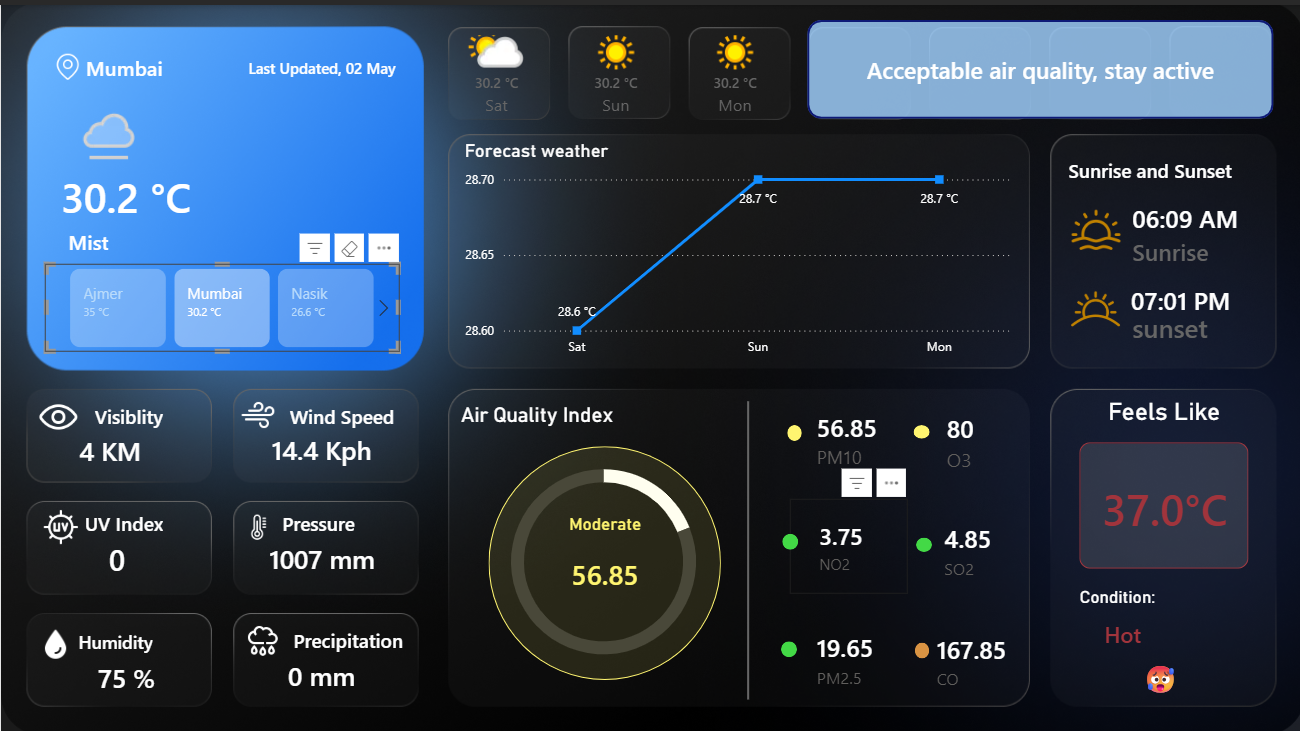

What the dashboard file says about the page in this screenshot:
{"tool":"powerbi","page":{"name":"Page 1","canvas":[1280,720],"ordinal":0},"visuals":[{"type":"donutChart","fields":{"Y":["Sum(current.current.air_quality.pm10)","_Measures.Left_Value_PM10"]},"box":[438.6,428.6,307.1,237.1],"z":0},{"type":"shape","box":[478.5,433.1,228.2,229.4],"z":1000},{"type":"shape","box":[66.3,208.6,360.7,47.9],"z":2000},{"type":"shape","box":[83.3,38.9,90,43.3],"z":3000},{"type":"image","box":[53.3,45.6,25.6,30],"z":4000},{"type":"image","box":[34.3,381.4,44.3,45.7],"z":5000},{"type":"shape","box":[92.5,380,93.8,47.5],"z":6000},{"type":"image","box":[230,385.7,45.7,34.3],"z":7000},{"type":"shape","box":[283.8,380,107.5,47.5],"z":8000},{"type":"image","box":[34.3,494.3,48.6,35.7],"z":9000},{"type":"shape","box":[82.5,486.2,103.8,46.2],"z":10000},{"type":"shape","box":[276.2,477.5,101.2,62.5],"z":11000},{"type":"image","box":[240,500,25,26.2],"z":12000},{"type":"image","box":[34.3,612.9,38.6,30],"z":13000},{"type":"shape","box":[76.2,601.2,93.8,47.5],"z":14000},{"type":"shape","box":[287.5,593.8,116.2,60],"z":15000},{"type":"image","box":[227.5,606.2,60,36.2],"z":16000},{"type":"cardVisual","fields":{"Data":["_Measures.Visibility"]},"box":[47.9,402.5,150.9,67.5],"z":17000},{"type":"cardVisual","fields":{"Data":["_Measures.Wind_Speed"]},"box":[236.7,395,166.7,80],"z":18000},{"type":"cardVisual","fields":{"Data":["_Measures.Pressure"]},"box":[234.4,506.8,169.3,72.4],"z":19000},{"type":"cardVisual","fields":{"Data":["Sum(current.current.uv)"]},"box":[47.9,506.8,132.5,72.4],"z":20000},{"type":"cardVisual","fields":{"Data":["_Measures.Humidity"]},"box":[66.2,623.8,132.5,72.5],"z":21000},{"type":"cardVisual","fields":{"Data":["_Measures.Precipitation"]},"box":[252.8,620.9,132.5,72.4],"z":22000},{"type":"advancedSlicerVisual","fields":{"Values":["forecast.Day_name"]},"box":[426.7,23.3,355,103.3],"z":23000},{"type":"shape","box":[1047.5,138.8,188.8,47.5],"z":24000},{"type":"shape","box":[1110,176.2,126.2,65],"z":25000},{"type":"shape","box":[1110,220,146.2,42.5],"z":26000},{"type":"shape","box":[1108.8,266.2,128.8,48.8],"z":27000},{"type":"shape","box":[1110,291.2,146.2,51.2],"z":28000},{"type":"image","box":[1040,196.2,68.8,48.8],"z":29000},{"type":"image","box":[1038.8,266.2,70,63.8],"z":30000},{"type":"shape","title":"Air Quality Index","box":[452,390.3,188.2,47.8],"z":31000},{"type":"cardVisual","fields":{"Data":["Sum(current.current.air_quality.pm10)"]},"box":[771.8,379.1,139.9,94.5],"z":32000},{"type":"cardVisual","fields":{"Data":["Sum(current.current.air_quality.co)"]},"box":[890,603.1,140.4,81.8],"z":33000},{"type":"cardVisual","fields":{"Data":["Sum(current.current.air_quality.no2)"]},"box":[774.4,484.4,115.7,94.1],"z":34000},{"type":"cardVisual","fields":{"Data":["Sum(current.current.air_quality.o3)"]},"box":[899.3,381,120.3,94.1],"z":35000},{"type":"cardVisual","fields":{"Data":["Sum(current.current.air_quality.pm2_5)"]},"box":[771.8,595.1,126.4,94.5],"z":36000},{"type":"cardVisual","fields":{"Data":["Sum(current.current.air_quality.so2)"]},"box":[896.9,488.3,122.7,94.5],"z":37000},{"type":"shape","box":[771.4,412.9,14.3,15.7],"z":38000},{"type":"advancedSlicerVisual","fields":{"Values":["Locations.location.name"]},"box":[42.9,254,348.5,87.1],"z":39000},{"type":"shape","box":[53.3,157.8,140,57.8],"z":40000},{"type":"shape","box":[243.3,47.8,195.6,27.8],"z":41000},{"type":"cardVisual","fields":{"Data":["Min(current.current.condition.icon)"]},"box":[45.6,0,121.1,176.7],"z":42000},{"type":"lineChart","title":"Forecast weather ","fields":{"Y":["Avg(forecast.forecast.forecastday.day.avgtemp_c)"],"Category":["forecast.Day_name"]},"box":[450,132.9,547.1,221.4],"z":43000},{"type":"shape","box":[897.1,625.7,14.3,15.7],"z":44000},{"type":"shape","box":[898.6,522.9,15.7,14.3],"z":45000},{"type":"shape","box":[895.7,412.3,16,13.5],"z":46000},{"type":"shape","box":[767.1,518.6,15.7,15.7],"z":47000},{"type":"shape","box":[765.7,624.3,15.7,15.7],"z":48000},{"type":"shape","box":[714.3,388.6,38.6,292.9],"z":49000},{"type":"cardVisual","fields":{"Data":["Sum(current.current.air_quality.pm10)"]},"box":[521.5,499.4,143.6,98.2],"z":50000},{"type":"shape","box":[791.4,14.7,457.7,96.9],"z":51000},{"type":"cardVisual","title":"Feels Like","fields":{"Data":["_Measures.FeelsLikeText"]},"box":[1041.7,385.6,200.2,185.4],"z":52000},{"type":"cardVisual","fields":{"Data":["_Measures.FeelsLikeIcon"]},"box":[1090.8,625.8,115.3,67.5],"z":53000},{"type":"cardVisual","title":"Condition:","fields":{"Data":["_Measures.FeelsLikeStatus"]},"box":[1054,570.6,187.7,73.6],"z":54000}]}

Visuals, with their boxes in screenshot pixels (x1, y1, x2, y2), scaled from the page's 1280x720 canvas onto the 1300x731 screenshot:
donutChart - Sum(current.current.air_quality.pm10) x _Measures.Left_Value_PM10: pyautogui.locateOnScreen(445, 435, 757, 676)
shape: pyautogui.locateOnScreen(486, 440, 718, 673)
shape: pyautogui.locateOnScreen(67, 212, 434, 260)
shape: pyautogui.locateOnScreen(85, 39, 176, 83)
image: pyautogui.locateOnScreen(54, 46, 80, 77)
image: pyautogui.locateOnScreen(35, 387, 80, 434)
shape: pyautogui.locateOnScreen(94, 386, 189, 434)
image: pyautogui.locateOnScreen(234, 392, 280, 426)
shape: pyautogui.locateOnScreen(288, 386, 397, 434)
image: pyautogui.locateOnScreen(35, 502, 84, 538)
shape: pyautogui.locateOnScreen(84, 494, 189, 541)
shape: pyautogui.locateOnScreen(281, 485, 383, 548)
image: pyautogui.locateOnScreen(244, 508, 269, 534)
image: pyautogui.locateOnScreen(35, 622, 74, 653)
shape: pyautogui.locateOnScreen(77, 610, 173, 659)
shape: pyautogui.locateOnScreen(292, 603, 410, 664)
image: pyautogui.locateOnScreen(231, 615, 292, 652)
cardVisual - _Measures.Visibility: pyautogui.locateOnScreen(49, 409, 202, 477)
cardVisual - _Measures.Wind_Speed: pyautogui.locateOnScreen(240, 401, 410, 482)
cardVisual - _Measures.Pressure: pyautogui.locateOnScreen(238, 515, 410, 588)
cardVisual - Sum(current.current.uv): pyautogui.locateOnScreen(49, 515, 183, 588)
cardVisual - _Measures.Humidity: pyautogui.locateOnScreen(67, 633, 202, 707)
cardVisual - _Measures.Precipitation: pyautogui.locateOnScreen(257, 630, 391, 704)
advancedSlicerVisual - forecast.Day_name: pyautogui.locateOnScreen(433, 24, 794, 129)
shape: pyautogui.locateOnScreen(1064, 141, 1256, 189)
shape: pyautogui.locateOnScreen(1127, 179, 1256, 245)
shape: pyautogui.locateOnScreen(1127, 223, 1276, 267)
shape: pyautogui.locateOnScreen(1126, 270, 1257, 320)
shape: pyautogui.locateOnScreen(1127, 296, 1276, 348)
image: pyautogui.locateOnScreen(1056, 199, 1126, 249)
image: pyautogui.locateOnScreen(1055, 270, 1126, 335)
"Air Quality Index" shape: pyautogui.locateOnScreen(459, 396, 650, 445)
cardVisual - Sum(current.current.air_quality.pm10): pyautogui.locateOnScreen(784, 385, 926, 481)
cardVisual - Sum(current.current.air_quality.co): pyautogui.locateOnScreen(904, 612, 1046, 695)
cardVisual - Sum(current.current.air_quality.no2): pyautogui.locateOnScreen(786, 492, 904, 587)
cardVisual - Sum(current.current.air_quality.o3): pyautogui.locateOnScreen(913, 387, 1036, 482)
cardVisual - Sum(current.current.air_quality.pm2_5): pyautogui.locateOnScreen(784, 604, 912, 700)
cardVisual - Sum(current.current.air_quality.so2): pyautogui.locateOnScreen(911, 496, 1036, 592)
shape: pyautogui.locateOnScreen(783, 419, 798, 435)
advancedSlicerVisual - Locations.location.name: pyautogui.locateOnScreen(44, 258, 398, 346)
shape: pyautogui.locateOnScreen(54, 160, 196, 219)
shape: pyautogui.locateOnScreen(247, 49, 446, 77)
cardVisual - Min(current.current.condition.icon): pyautogui.locateOnScreen(46, 0, 169, 179)
"Forecast weather " lineChart: pyautogui.locateOnScreen(457, 135, 1013, 360)
shape: pyautogui.locateOnScreen(911, 635, 926, 651)
shape: pyautogui.locateOnScreen(913, 531, 929, 545)
shape: pyautogui.locateOnScreen(910, 419, 926, 432)
shape: pyautogui.locateOnScreen(779, 527, 795, 542)
shape: pyautogui.locateOnScreen(778, 634, 794, 650)
shape: pyautogui.locateOnScreen(725, 395, 765, 692)
cardVisual - Sum(current.current.air_quality.pm10): pyautogui.locateOnScreen(530, 507, 675, 607)
shape: pyautogui.locateOnScreen(804, 15, 1269, 113)
"Feels Like" cardVisual: pyautogui.locateOnScreen(1058, 391, 1261, 580)
cardVisual - _Measures.FeelsLikeIcon: pyautogui.locateOnScreen(1108, 635, 1225, 704)
"Condition:" cardVisual: pyautogui.locateOnScreen(1070, 579, 1261, 654)
